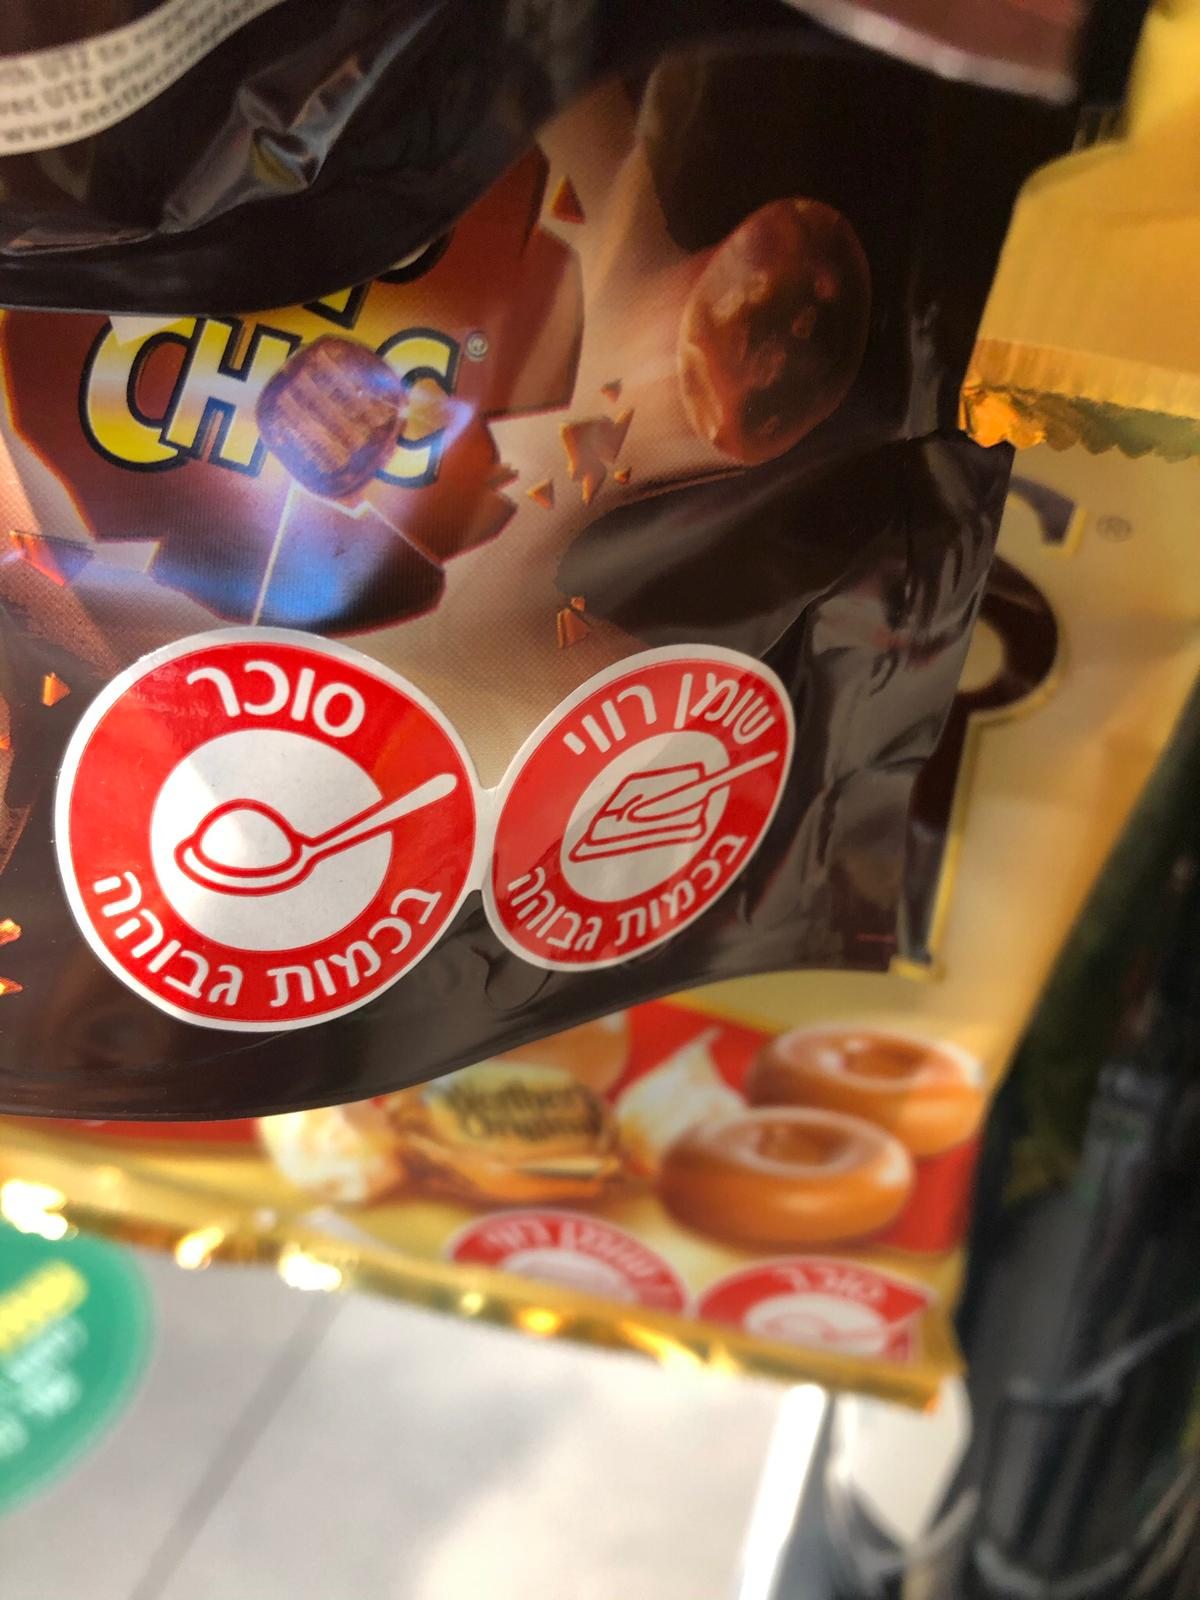fat: (479, 645, 792, 975)
sugar: (50, 621, 492, 1033)
